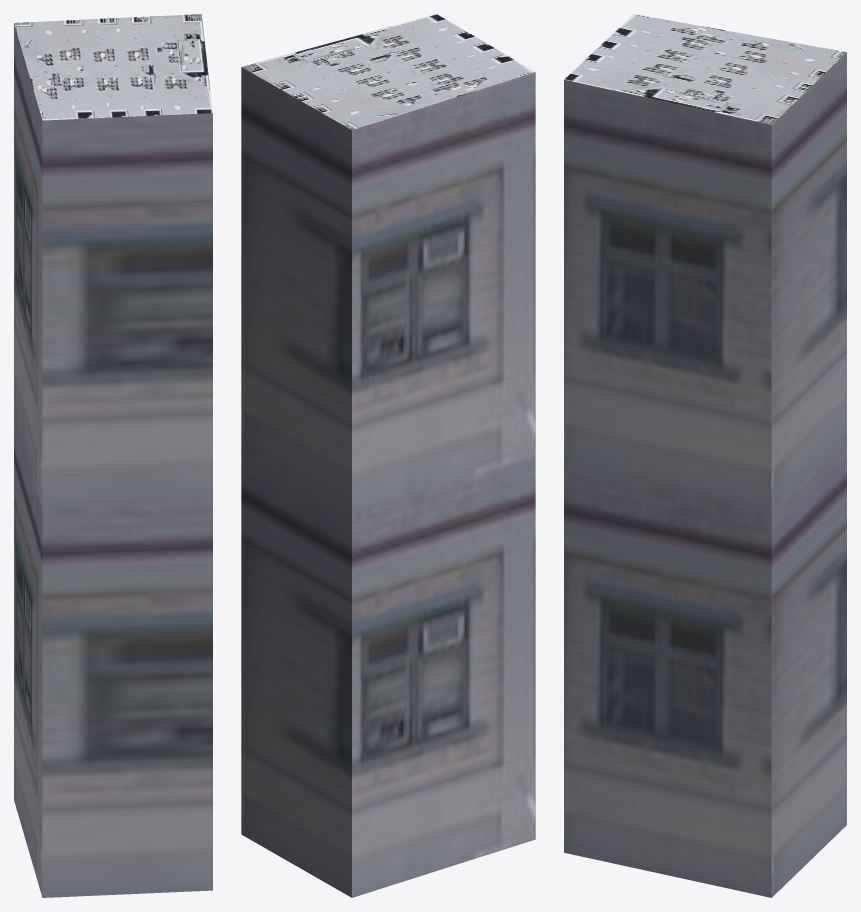
Rendered from ResTex__2736.fbx.
The picture shows the model from 3 angles, left to right: view 1: azimuth 30°, elevation 25°; view 2: azimuth 150°, elevation 25°; view 3: azimuth 270°, elevation 25°; orthographic projection.
Visible parts, largest first — view 1: CityEngineMaterial_1_m, CityEngineMaterial_m; view 2: CityEngineMaterial_1_m, CityEngineMaterial_m; view 3: CityEngineMaterial_1_m, CityEngineMaterial_m.
Boxes of the visible parts, x1,y1,x2,y2 form: CityEngineMaterial_1_m: (14,23,212,897); CityEngineMaterial_m: (14,14,212,120); CityEngineMaterial_1_m: (241,67,535,897); CityEngineMaterial_m: (242,14,534,130); CityEngineMaterial_1_m: (564,52,846,897); CityEngineMaterial_m: (564,14,846,124).
Size of the model in its own units: 1.85 by 6 by 1.99.
2 materials, 2 textured.
